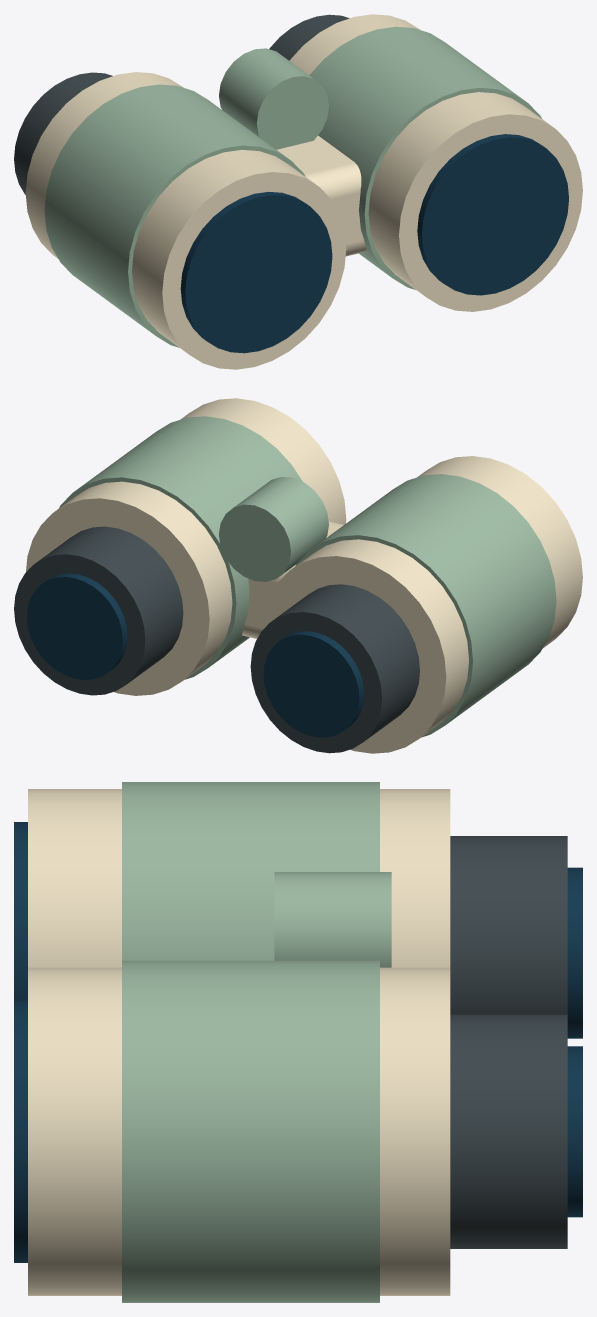
Rendered from binoculars.glb.
3 views of the same model, one above another, from view 1: azimuth 30°, elevation 25°; view 2: azimuth 150°, elevation 25°; view 3: azimuth 270°, elevation 25° (orthographic). The views are drawn at different scales.
Visible parts, largest first — view 1: Binocular_grip_-1, Binocular_housing_-1, Binocular_housing_1, Binocular_objective_-1, Binocular_objective_1, Binocular_grip_1, Binocular_focus_wheel, Binocular_bridge, Binocular_eyecup_-1, Binocular_eyecup_1; view 2: Binocular_grip_-1, Binocular_housing_-1, Binocular_housing_1, Binocular_grip_1, Binocular_eyecup_1, Binocular_eyecup_-1, Binocular_eyepiece_-1, Binocular_eyepiece_1, Binocular_focus_wheel, Binocular_bridge; view 3: Binocular_grip_1, Binocular_housing_1, Binocular_grip_-1, Binocular_housing_-1, Binocular_eyecup_1, Binocular_eyecup_-1, Binocular_focus_wheel, Binocular_objective_1, Binocular_eyepiece_-1, Binocular_eyepiece_1, Binocular_objective_-1.
Part boxes in pixels (x1=…): Binocular_grip_-1: x1=44, y1=84, x2=305, y2=347; Binocular_housing_-1: x1=25, y1=72, x2=346, y2=369; Binocular_housing_1: x1=289, y1=14, x2=582, y2=311; Binocular_objective_-1: x1=180, y1=191, x2=332, y2=353; Binocular_objective_1: x1=417, y1=134, x2=568, y2=295; Binocular_grip_1: x1=309, y1=26, x2=541, y2=289; Binocular_focus_wheel: x1=219, y1=48, x2=328, y2=149; Binocular_bridge: x1=277, y1=135, x2=366, y2=256; Binocular_eyecup_-1: x1=14, y1=72, x2=112, y2=194; Binocular_eyecup_1: x1=269, y1=14, x2=349, y2=60; Binocular_grip_-1: x1=295, y1=474, x2=556, y2=737; Binocular_housing_-1: x1=262, y1=456, x2=582, y2=753; Binocular_housing_1: x1=26, y1=398, x2=346, y2=695; Binocular_grip_1: x1=59, y1=416, x2=302, y2=679; Binocular_eyecup_1: x1=14, y1=526, x2=183, y2=695; Binocular_eyecup_-1: x1=250, y1=584, x2=419, y2=753; Binocular_eyepiece_-1: x1=263, y1=631, x2=364, y2=737; Binocular_eyepiece_1: x1=27, y1=573, x2=127, y2=679; Binocular_focus_wheel: x1=219, y1=477, x2=328, y2=581; Binocular_bridge: x1=242, y1=521, x2=343, y2=638; Binocular_grip_1: x1=122, y1=960, x2=379, y2=1302; Binocular_housing_1: x1=28, y1=967, x2=450, y2=1295; Binocular_grip_-1: x1=122, y1=782, x2=379, y2=960; Binocular_housing_-1: x1=28, y1=789, x2=450, y2=967; Binocular_eyecup_1: x1=450, y1=1014, x2=567, y2=1248; Binocular_eyecup_-1: x1=450, y1=836, x2=567, y2=1014; Binocular_focus_wheel: x1=274, y1=872, x2=391, y2=967; Binocular_objective_1: x1=14, y1=1000, x2=27, y2=1262; Binocular_eyepiece_-1: x1=567, y1=867, x2=582, y2=1038; Binocular_eyepiece_1: x1=567, y1=1046, x2=582, y2=1217; Binocular_objective_-1: x1=14, y1=822, x2=27, y2=1000.
Bounding box in the file's own units: 0.652 × 0.301 × 0.485.
